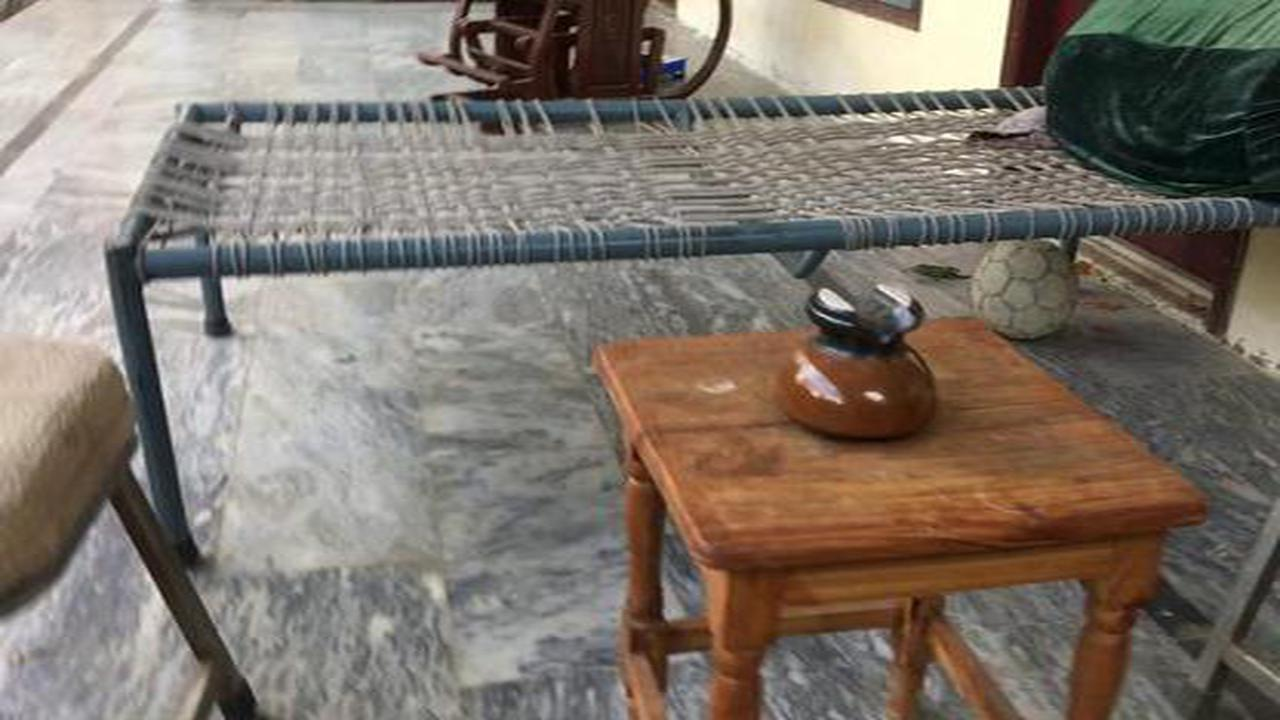insulator_pin: (754, 267, 964, 449)
